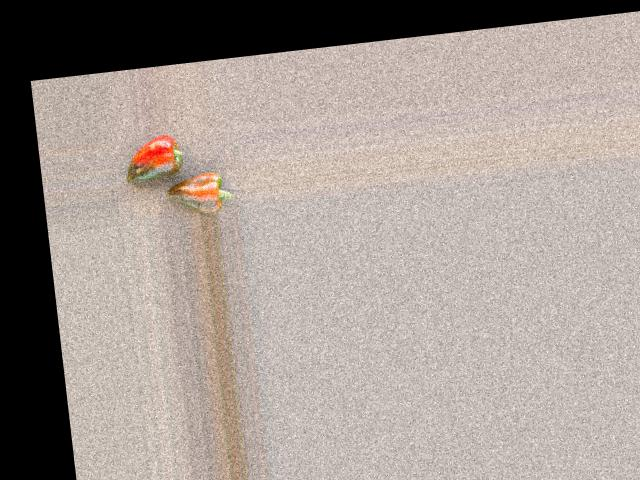bell_pepper: (118, 129, 206, 186)
